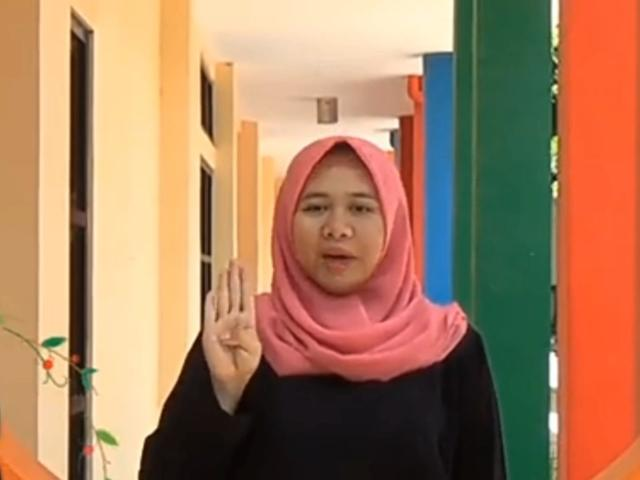B: (204, 256, 262, 388)
